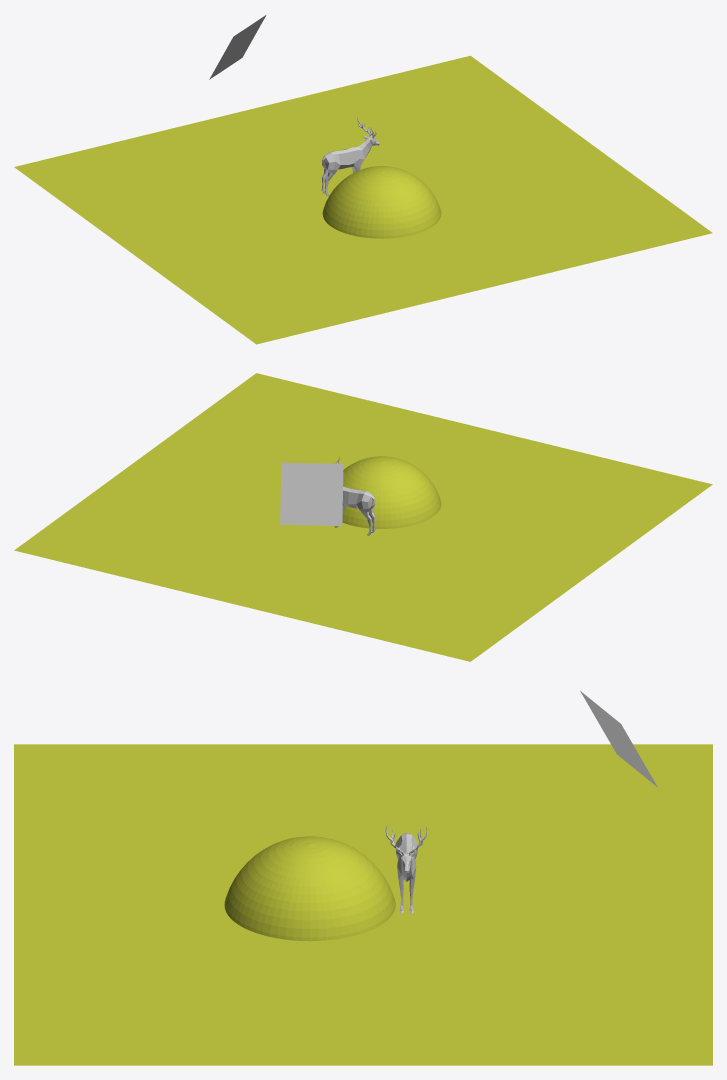
File: sphere_ground.obj
The picture shows the model from 3 angles, top to bottom: view 1: azimuth 30°, elevation 25°; view 2: azimuth 150°, elevation 25°; view 3: azimuth 270°, elevation 25°; orthographic projection. The views are drawn at different scales.
Parts seen in each view (by area): view 1: Plane, Sphere, dear, Light1; view 2: Plane, Sphere, Light1, dear; view 3: Plane, Sphere, Light1, dear.
Part boxes in pixels (<box>): Plane: <box>14,55,712,344</box>; Sphere: <box>322,166,441,238</box>; dear: <box>321,117,379,196</box>; Light1: <box>209,15,266,79</box>; Plane: <box>14,373,712,661</box>; Sphere: <box>342,456,441,528</box>; Light1: <box>280,462,343,525</box>; dear: <box>332,456,375,535</box>; Plane: <box>14,744,712,1065</box>; Sphere: <box>224,836,395,941</box>; Light1: <box>580,691,657,787</box>; dear: <box>385,825,427,913</box>.
Size of the model in its own units: 16.94 by 6.82 by 15.58.
